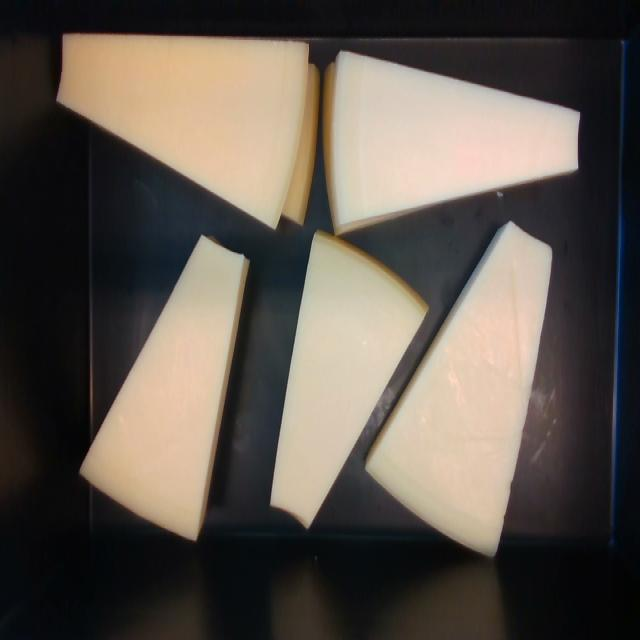Cheese: (365, 223, 550, 555), (81, 236, 248, 539), (58, 35, 313, 228), (326, 52, 578, 232), (271, 235, 424, 527)
